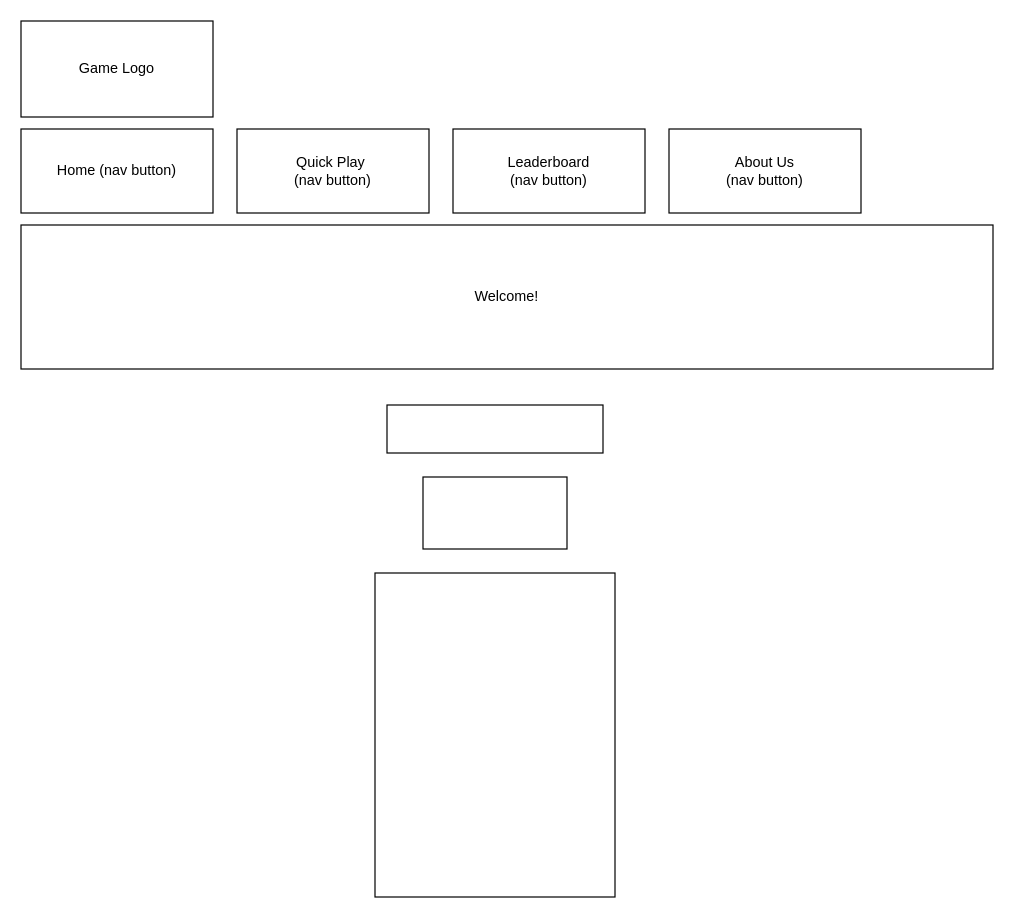
This 1014x918 diagram has some shape labels left out. The shapes that lost their labels are listed below. From the top down, each one's centre as x and y in pixels, then its label:
pixel 494 428: Enter Name
pixel 494 512: Play Button
pixel 494 734: Rules of the Game
